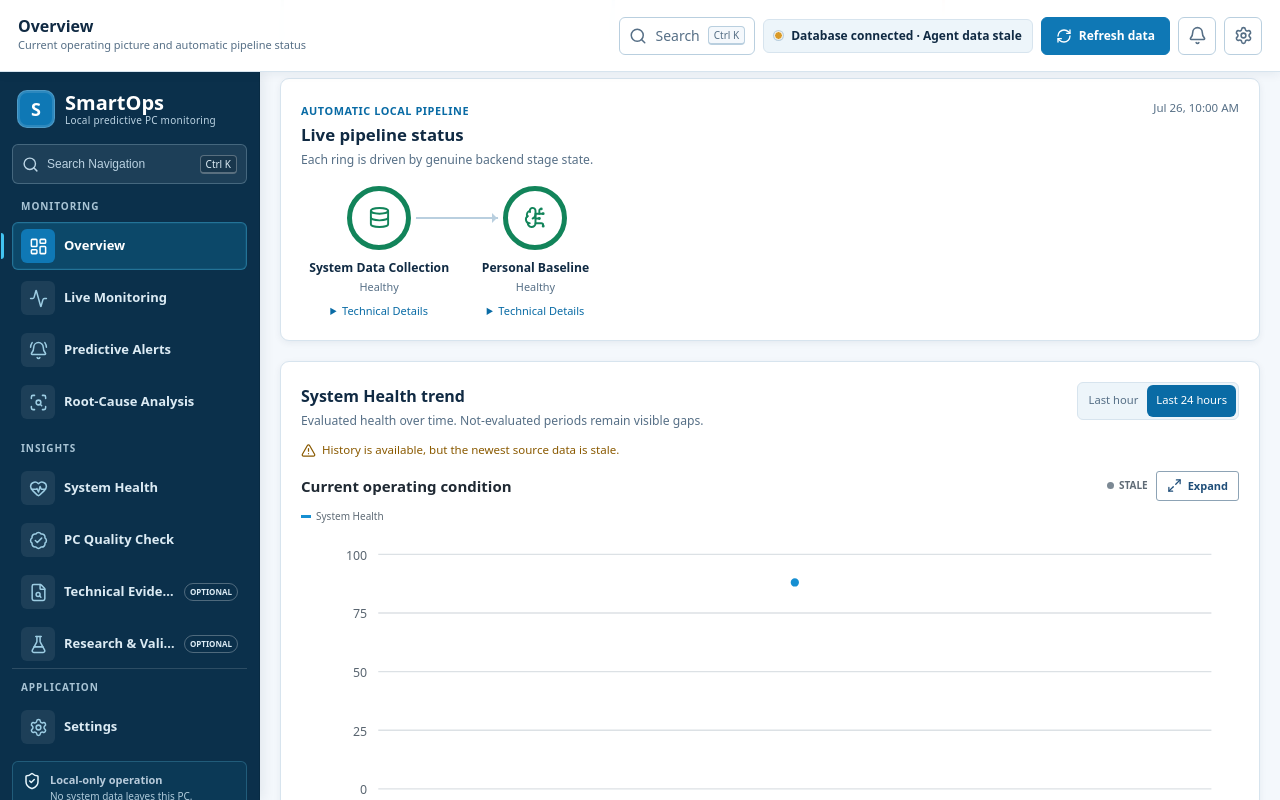
deployment-ready SmartOps dashboard › preserves bounded health ranges and existing expand and zoom controls
(page scrolled)
Click the button "Last hour": (1113, 401) [1080,385,1147,417]
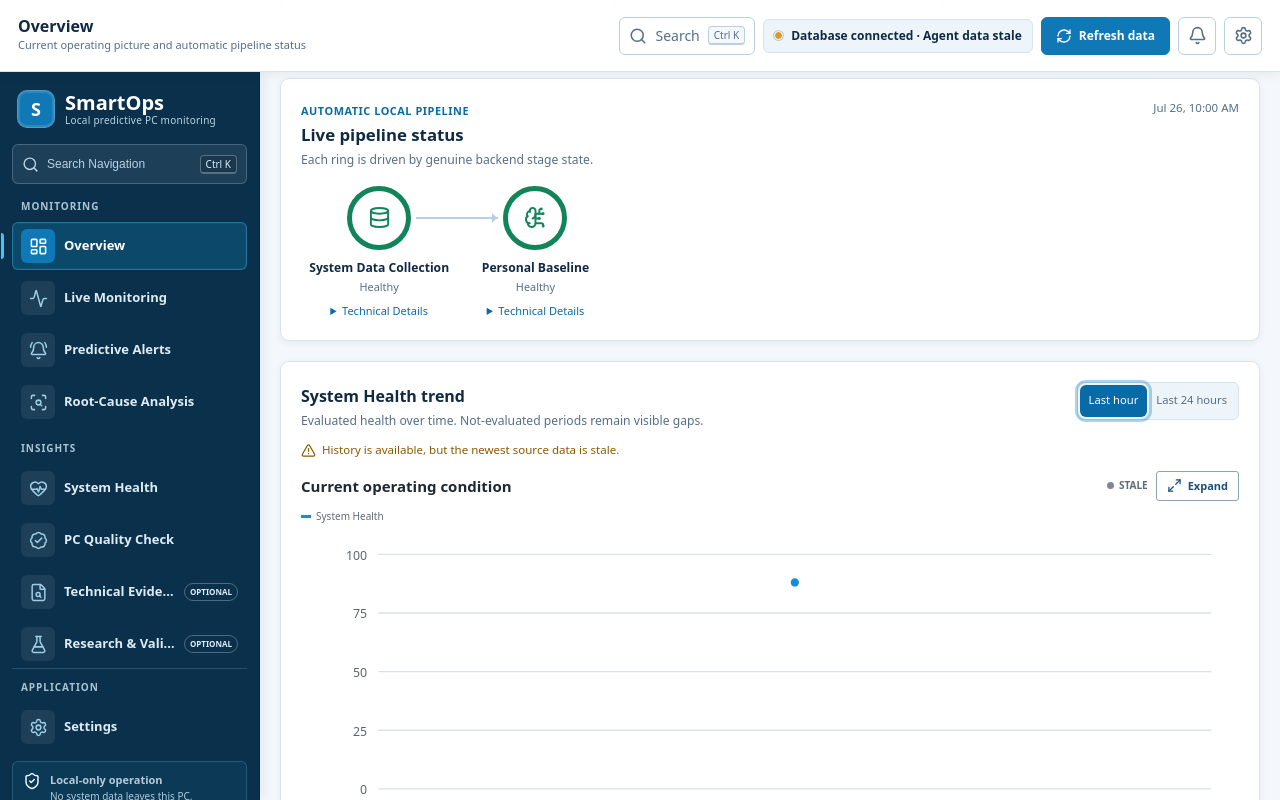
Check: the button "Last hour" is pressed, box [1080,385,1147,417]
Click the button "Expand": (1197, 486) [1156,471,1239,501]
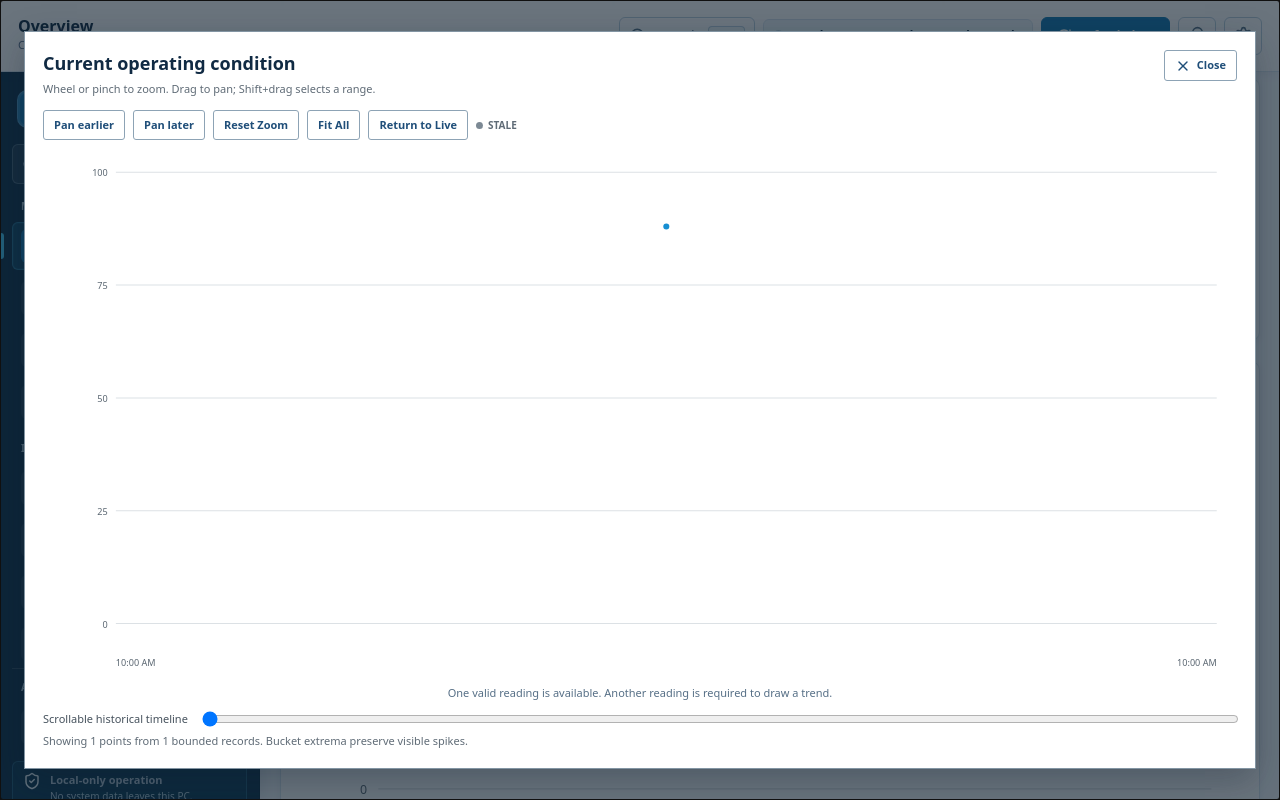
Check: the dialog named "Current operating condition expanded chart" is shown
Check: the button "Reset Zoom" is shown, box [213,110,299,140]
Check: the button "Return to Live" is shown, box [368,110,468,140]
